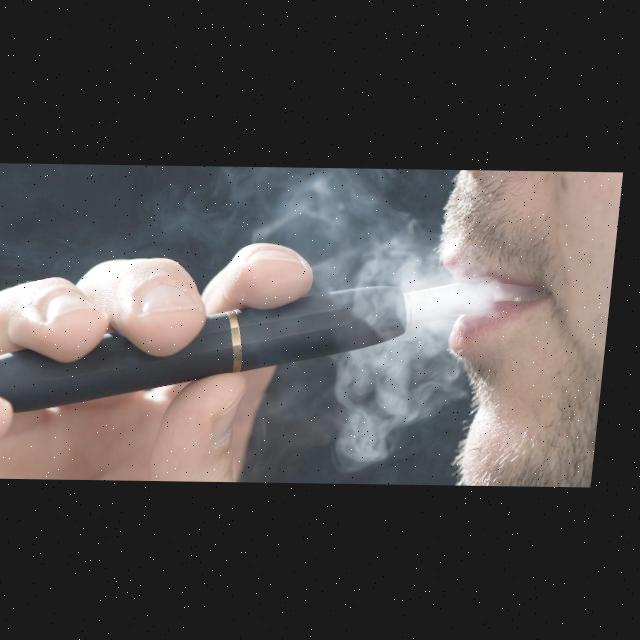vape: (0, 273, 501, 415)
